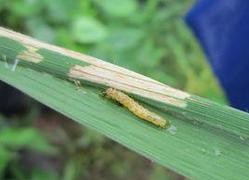pest: (104, 88, 169, 128)
